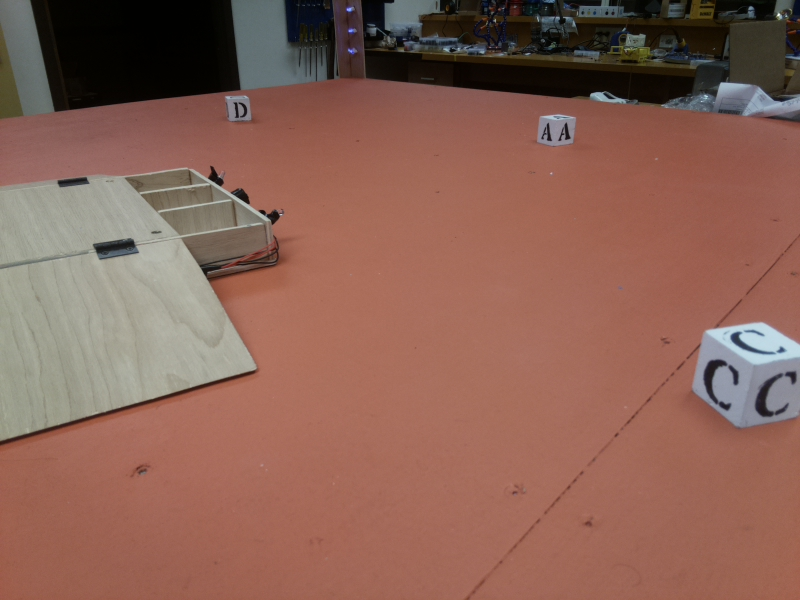blockA: (536, 111, 576, 150)
blockC: (689, 318, 800, 433)
blockD: (223, 97, 257, 123)
corner: (331, 1, 363, 83)
side: (128, 167, 289, 272)
slope: (1, 238, 264, 443), (4, 168, 125, 192)
